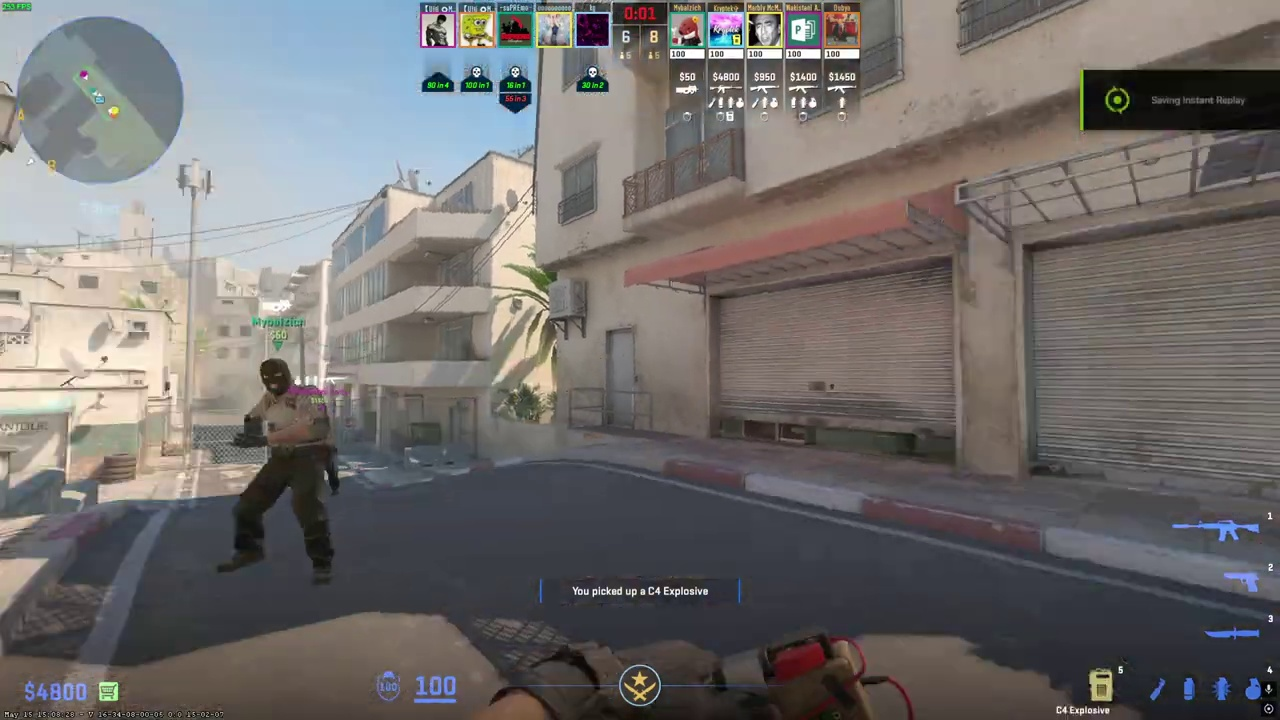Terrorist: (223, 358, 335, 586)
